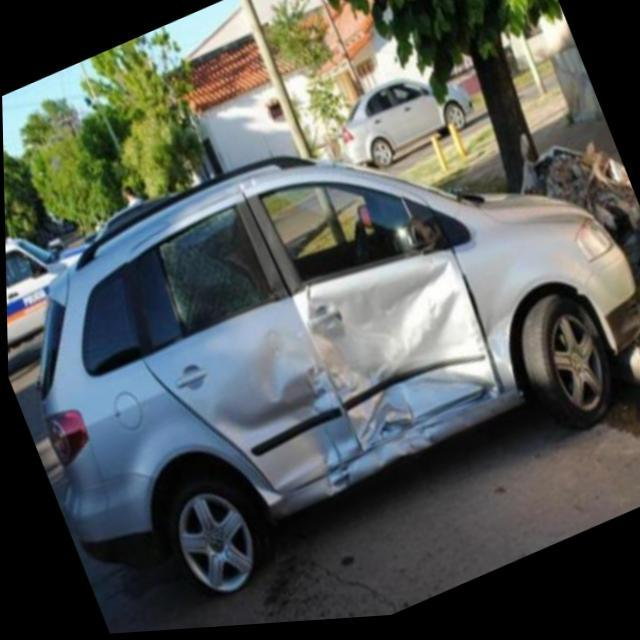dent: (209, 257, 503, 498), (223, 177, 258, 200)
glass shatter: (158, 207, 280, 343)
